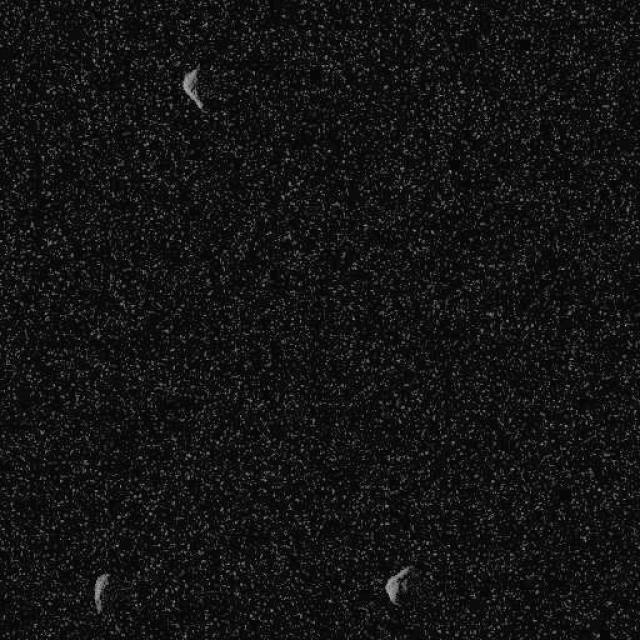D2: (384, 564, 415, 606), (180, 65, 205, 111), (92, 571, 109, 614)
